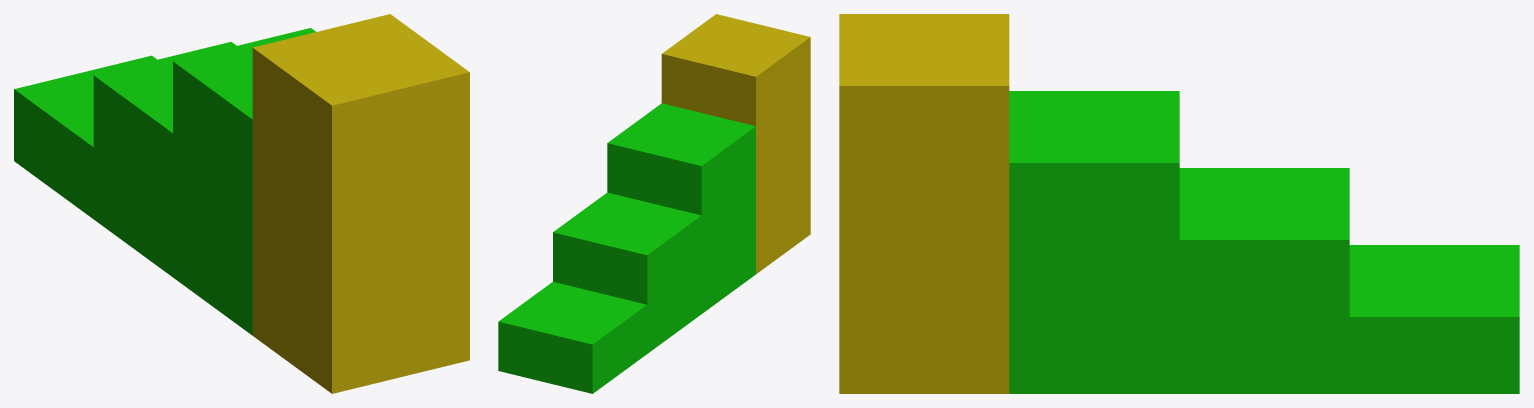
File: steps.obj
3 renders of one model, left to right at view 1: azimuth 30°, elevation 25°; view 2: azimuth 150°, elevation 25°; view 3: azimuth 270°, elevation 25°, orthographic. The views are drawn at different scales.
Visible parts, largest first — view 1: Cube; view 2: Cube; view 3: Cube.
Boxes of the visible parts, left/top/right/bottom form: Cube: left=14, top=14, right=469, bottom=393; Cube: left=498, top=14, right=810, bottom=393; Cube: left=839, top=14, right=1519, bottom=393.
Bounding box in the file's own units: 2 × 4 × 8.
